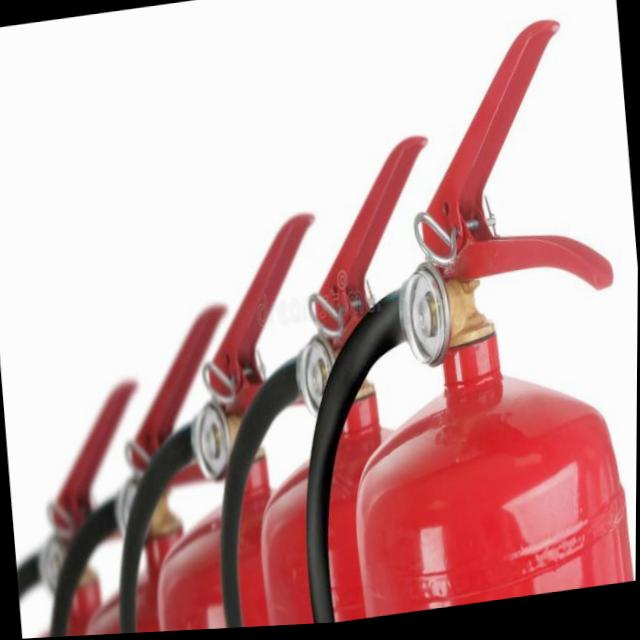FireExtinguisher: (257, 9, 640, 629), (183, 126, 495, 632), (81, 201, 378, 637), (20, 299, 277, 639), (0, 365, 169, 640)
